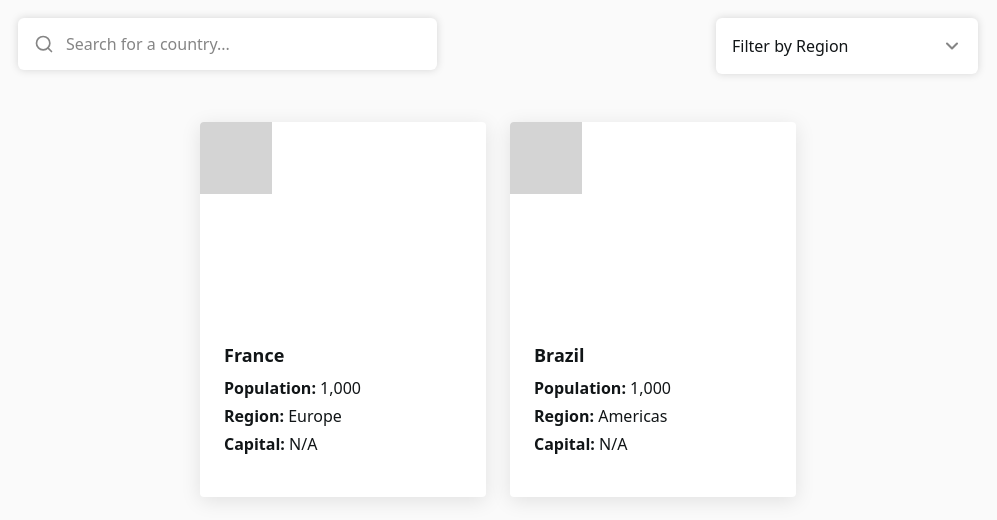
Test case: HomeShell › filters countries by search query
In the search field with placeholder "Search for a country...": (228, 44) [18, 18, 437, 70], type "fra"
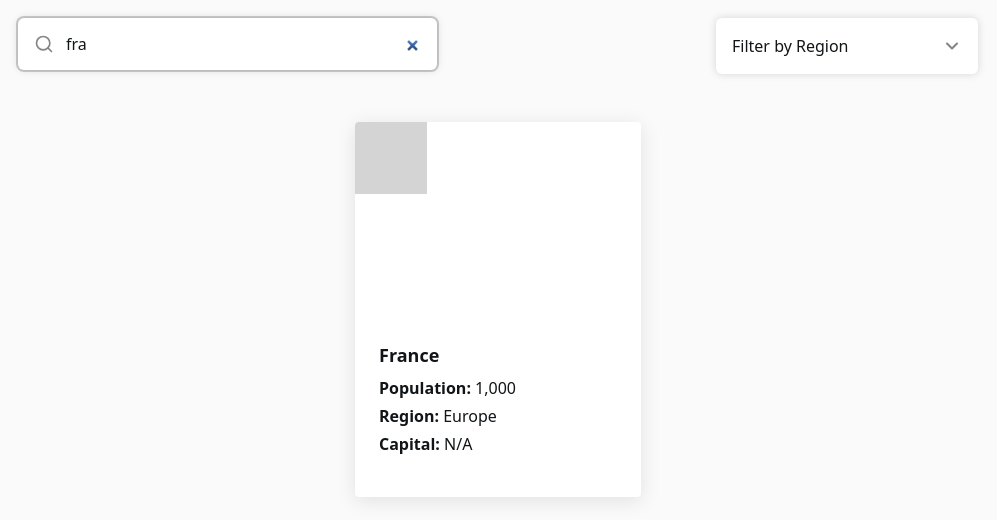
Expected: the heading "France" is shown, [379, 343, 439, 367]
Expected: the link "Brazil" is gone
